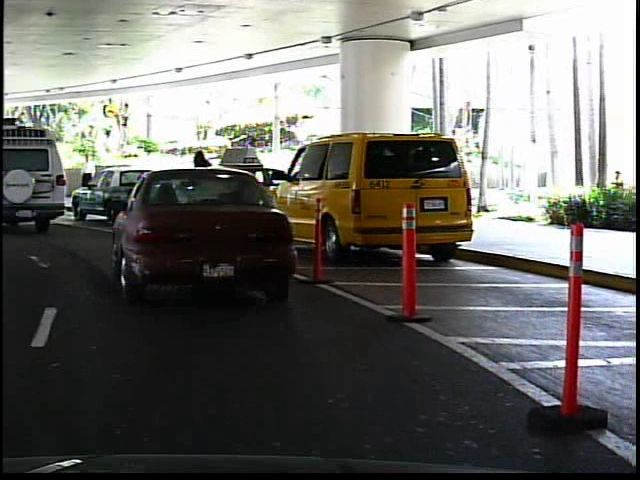person: (190, 144, 222, 211), (227, 141, 254, 211), (78, 148, 100, 202), (13, 157, 33, 196)
